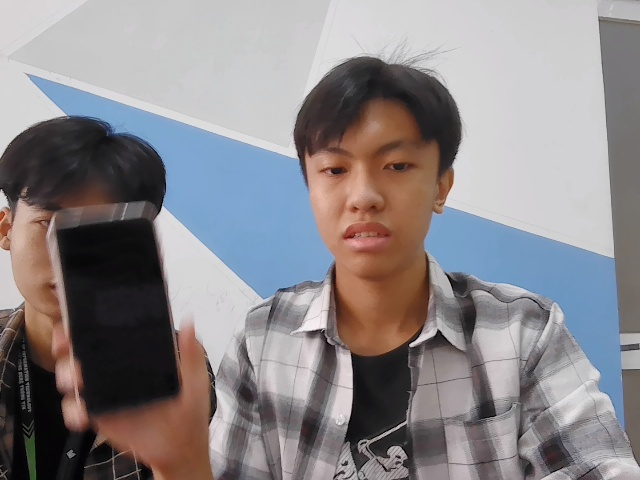human: (292, 48, 468, 279)
phone: (47, 202, 201, 416)
